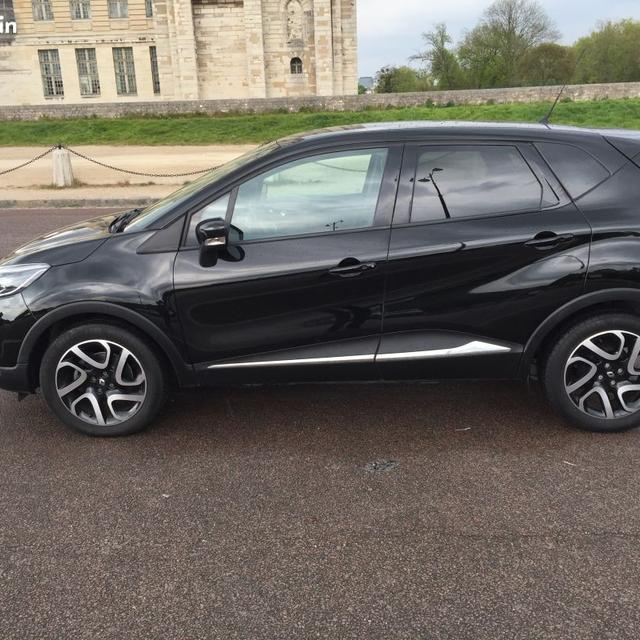porte-avant: (169, 138, 409, 386)
